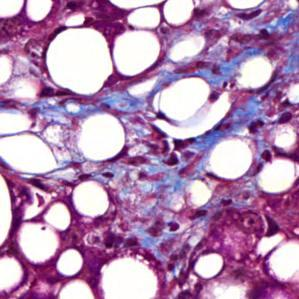steatosis: (48, 27, 112, 96), (77, 111, 126, 164), (204, 133, 253, 181), (115, 29, 158, 78), (71, 182, 111, 216)
